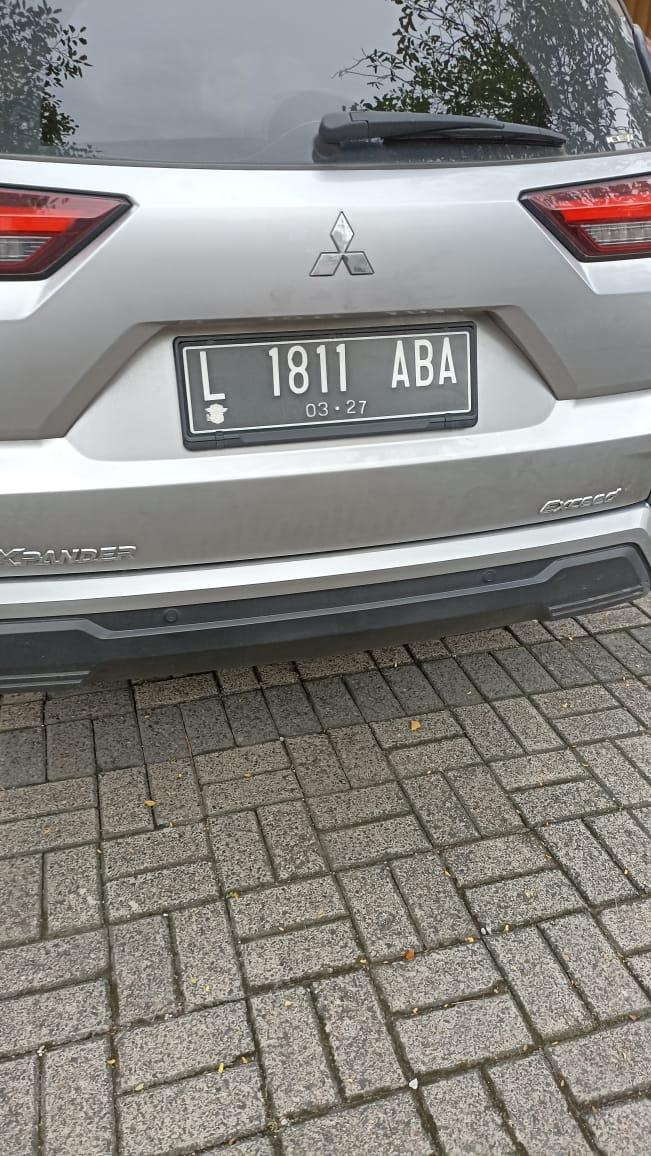plat: (176, 323, 479, 449)
